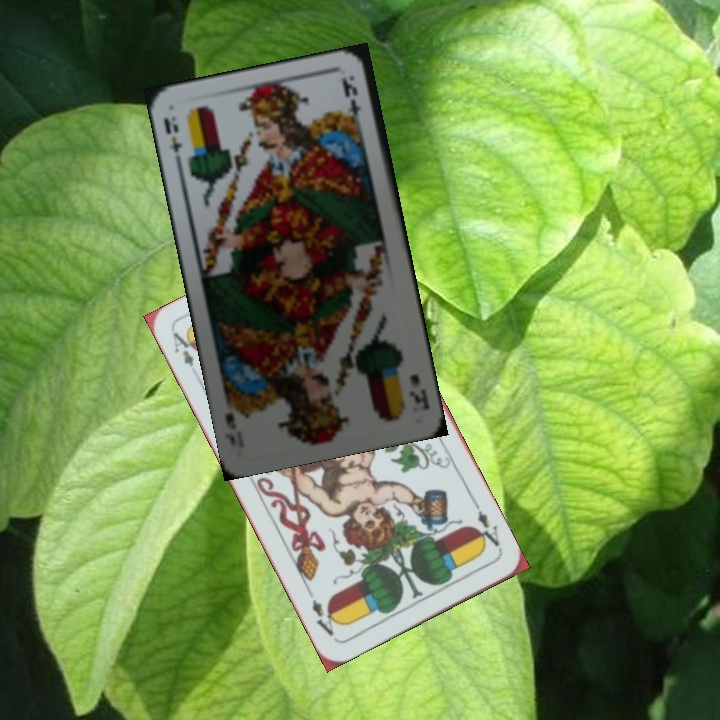EA: (470, 499, 503, 551), (169, 327, 200, 371)
EK: (160, 112, 185, 168), (404, 370, 432, 412)
